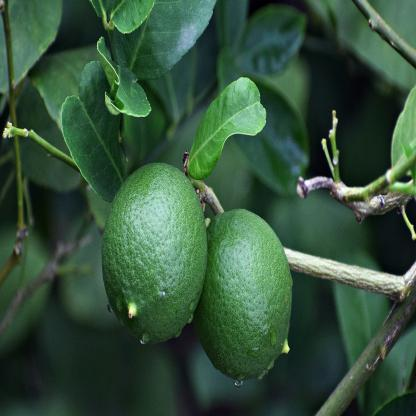lemon: (104, 160, 209, 346), (196, 209, 292, 384)
